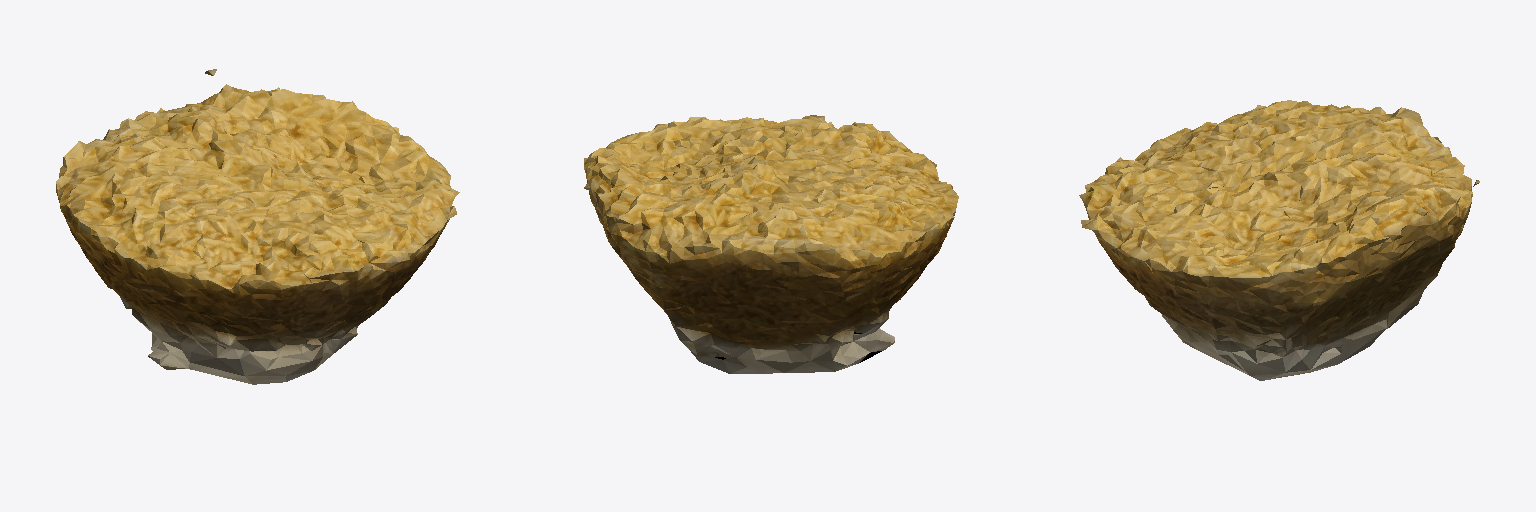
3 renders of one model, left to right at view 1: azimuth 30°, elevation 25°; view 2: azimuth 150°, elevation 25°; view 3: azimuth 270°, elevation 25°, orthographic.
Parts seen in each view (by area): view 1: rice; view 2: rice; view 3: rice.
Part boxes in pixels (x1,y1,x2,y2): rice: (56,69,459,384); rice: (584,115,958,373); rice: (1079,100,1479,380).
Bounding box in the file's own units: 2.34 × 1.32 × 2.38.
1 materials, 1 textured.